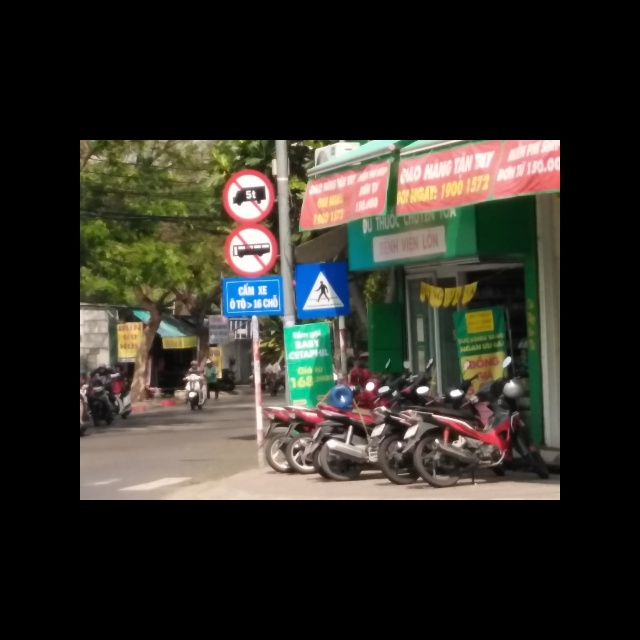Cấm xe tải: (221, 170, 276, 224)
Cấm xe xe khách: (224, 223, 279, 273)
Đường dành cho người đi bộ: (295, 262, 355, 319)
